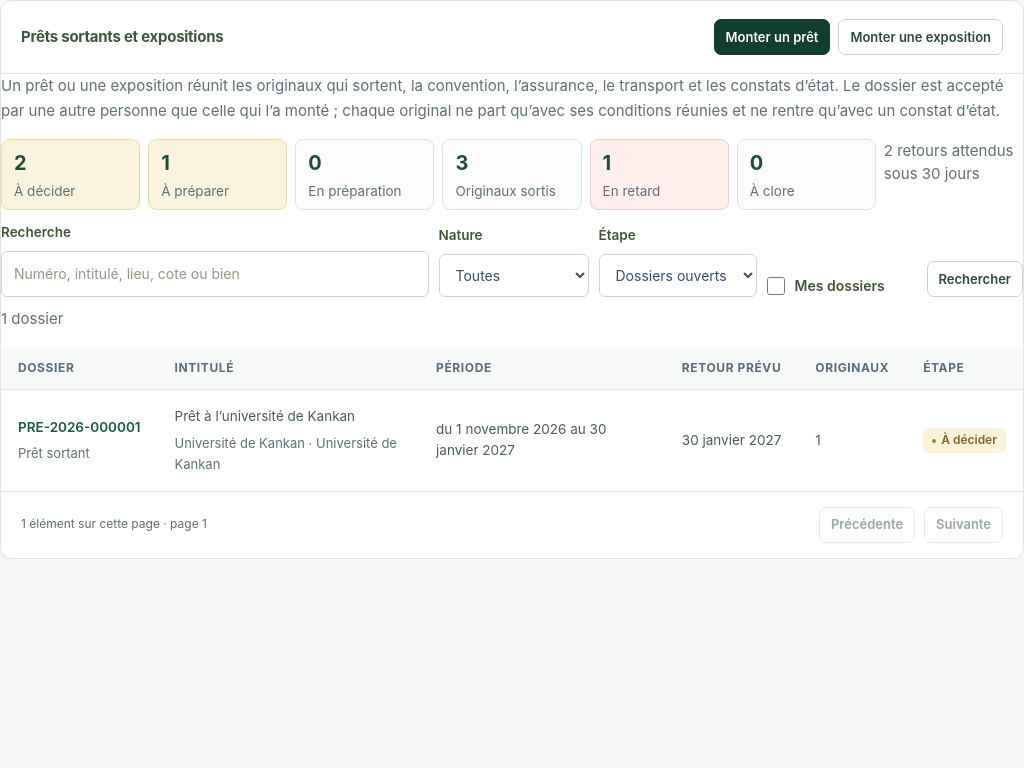
Test: une fois des originaux sortis, la fiche dit ce qui bloque la clôture
Click the button "PRE-2026-000001" at coordinates (79, 428), box [18,417,140,438]
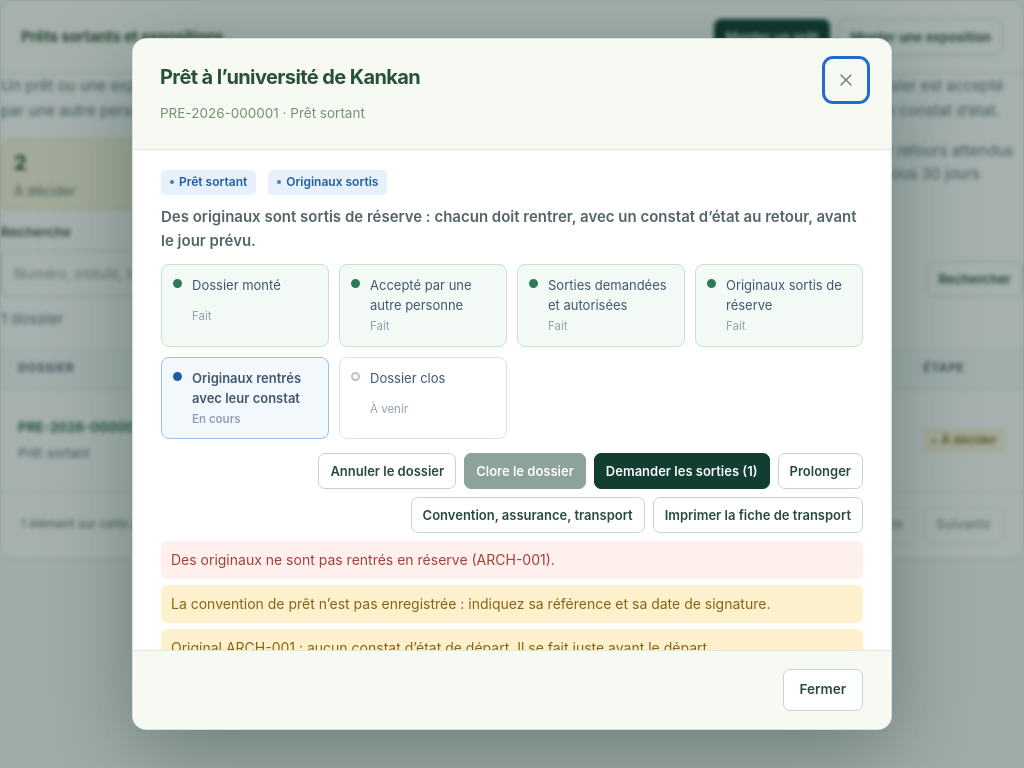
Now the list named "Clore le dossier" shows "ne sont pas rentrés", box [171,551,555,568]
